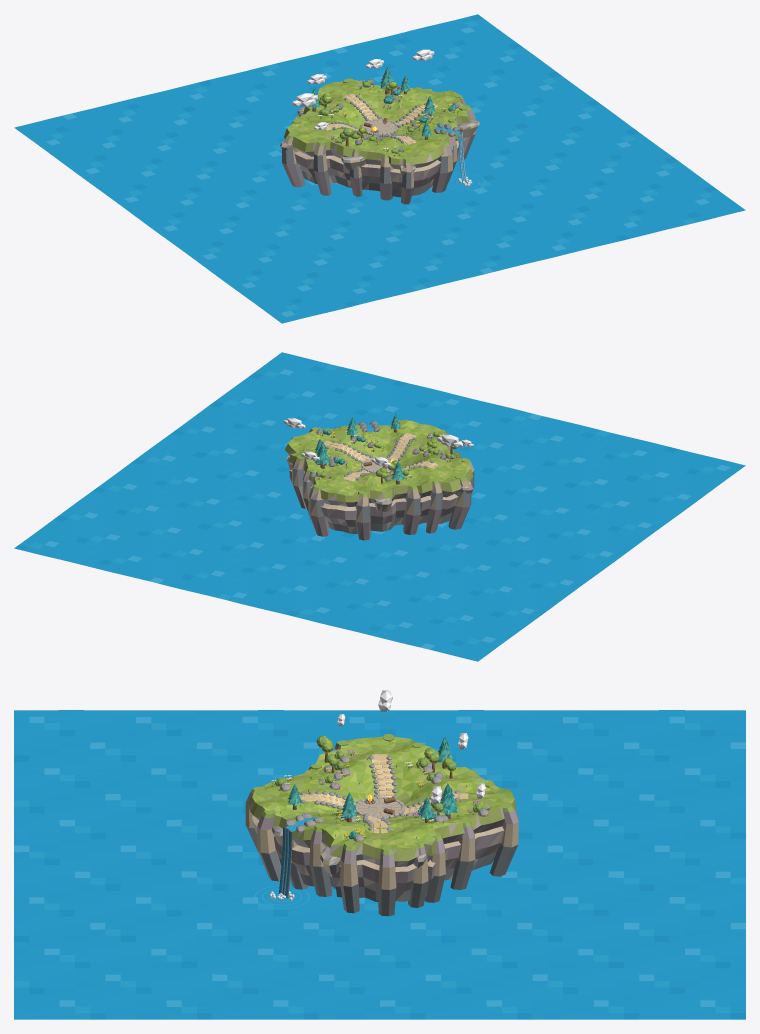
The model's file is world.glb.
3 views of the same model, one above another, from view 1: azimuth 30°, elevation 25°; view 2: azimuth 150°, elevation 25°; view 3: azimuth 270°, elevation 25° (orthographic). The views are drawn at different scales.
Parts seen in each view (by area): view 1: World color-batched geometry; view 2: World color-batched geometry; view 3: World color-batched geometry.
Part boxes in pixels (x1=…): World color-batched geometry: x1=14, y1=14, x2=745, y2=323; World color-batched geometry: x1=14, y1=352, x2=745, y2=661; World color-batched geometry: x1=14, y1=690, x2=745, y2=1019.
Bounding box in the file's own units: 57.6 × 10.96 × 57.6.
